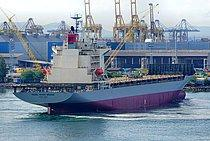Ship: (11, 41, 199, 113)
